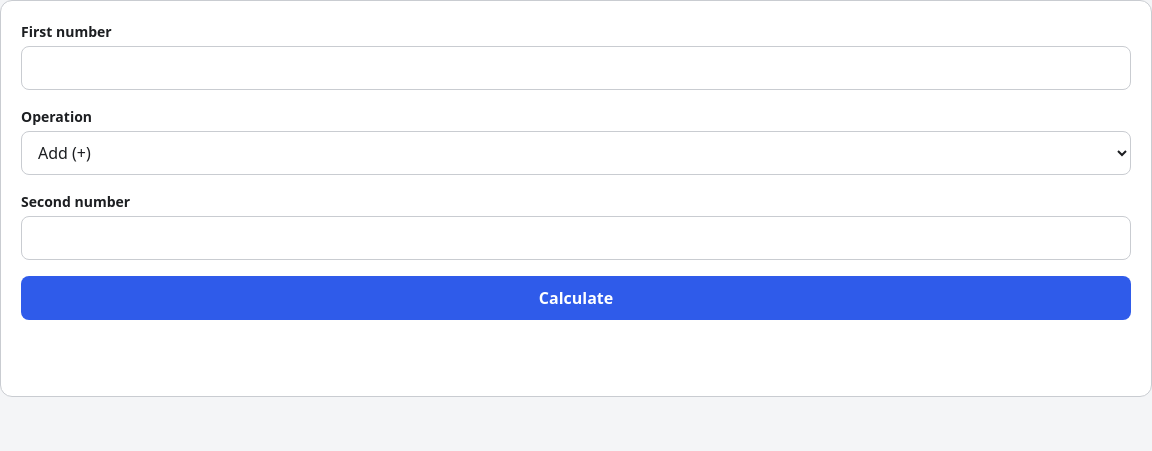
Scenario: CalculatorForm › shows a message for an out-of-range result
Type "1" into the field labelled "First number".
click(576, 68); type("1")  # box top-left (21, 46), bottom-right (1131, 90)
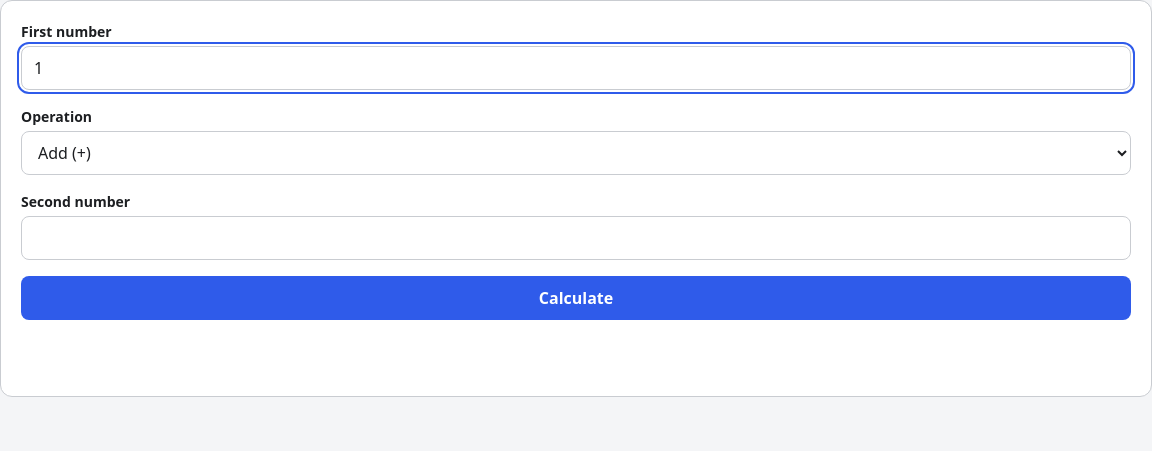
Select "Divide (÷)" in the dropdown labelled "Operation" at (576, 153), box top-left (21, 131), bottom-right (1131, 175)
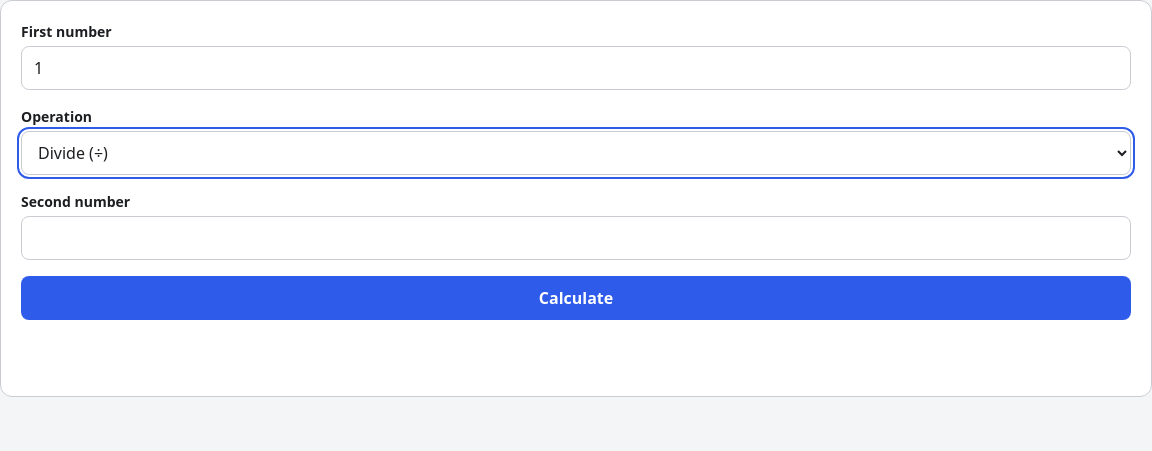
Type "0" into the field labelled "Second number".
click(576, 238); type("0")  # box top-left (21, 216), bottom-right (1131, 260)
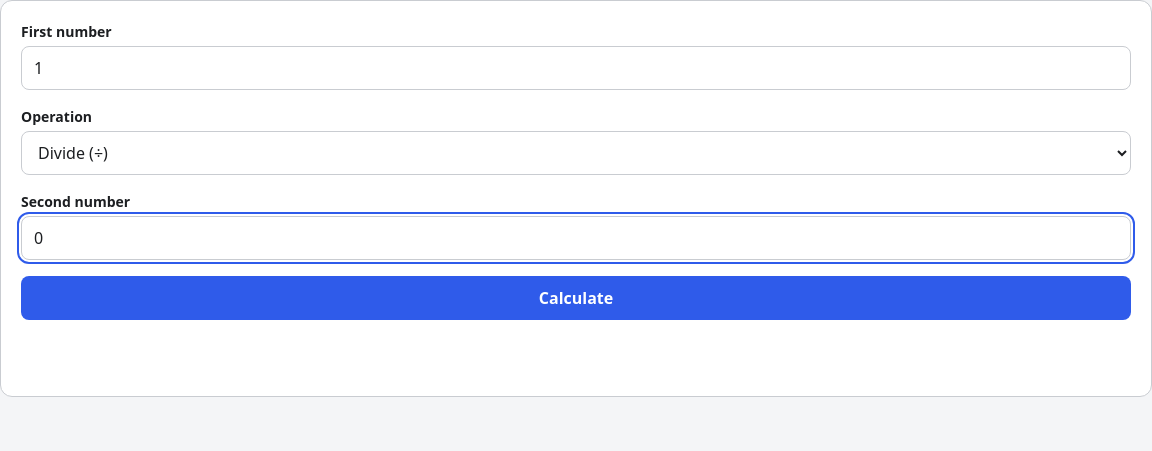
Click the button "Calculate".
click(576, 298)  # box top-left (21, 276), bottom-right (1131, 320)
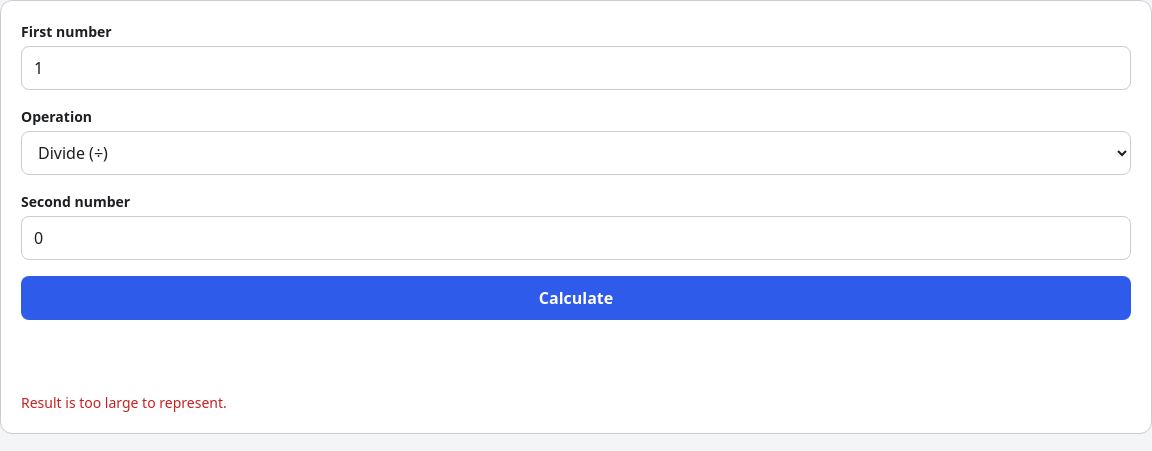
Expected: the message reads "Result is too large to represent.", top-left (21, 393), bottom-right (227, 412)
